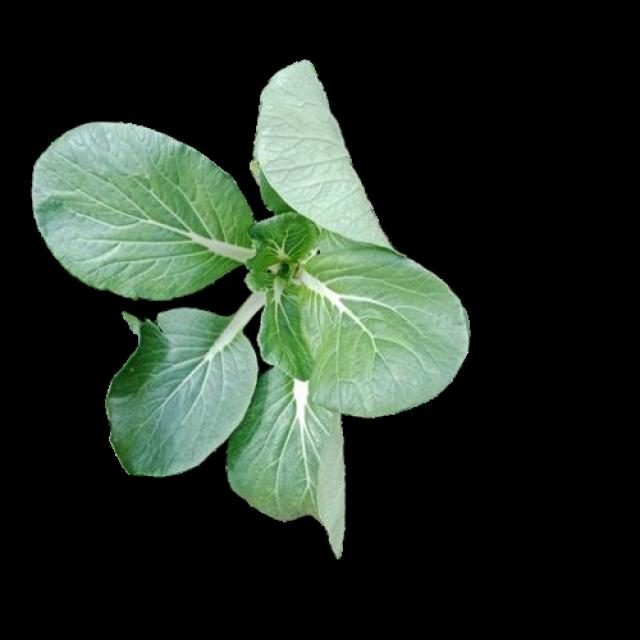healthy: (34, 94, 470, 558)
not-mature: (31, 68, 472, 560)
